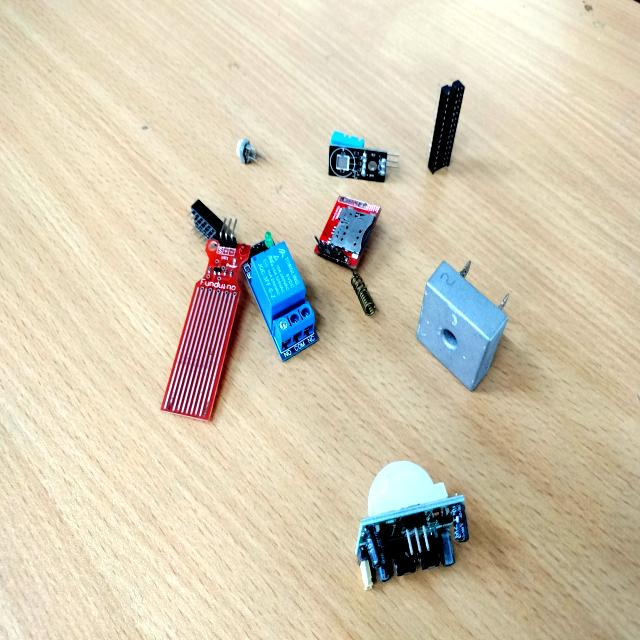Bridge-Rectifier: (403, 246, 521, 398)
GSM-Module: (311, 184, 391, 328)
Humidity-Sensor: (321, 124, 403, 192)
IC-Base-14-Pin: (183, 193, 242, 260)
IC-Base-28-Pin: (418, 68, 470, 184)
Motion-Sensor: (338, 445, 483, 606)
Relay-Module: (229, 224, 324, 362)
Trimmer-Potentiometer: (230, 130, 280, 180)
Water-Sensor: (156, 211, 257, 430)
